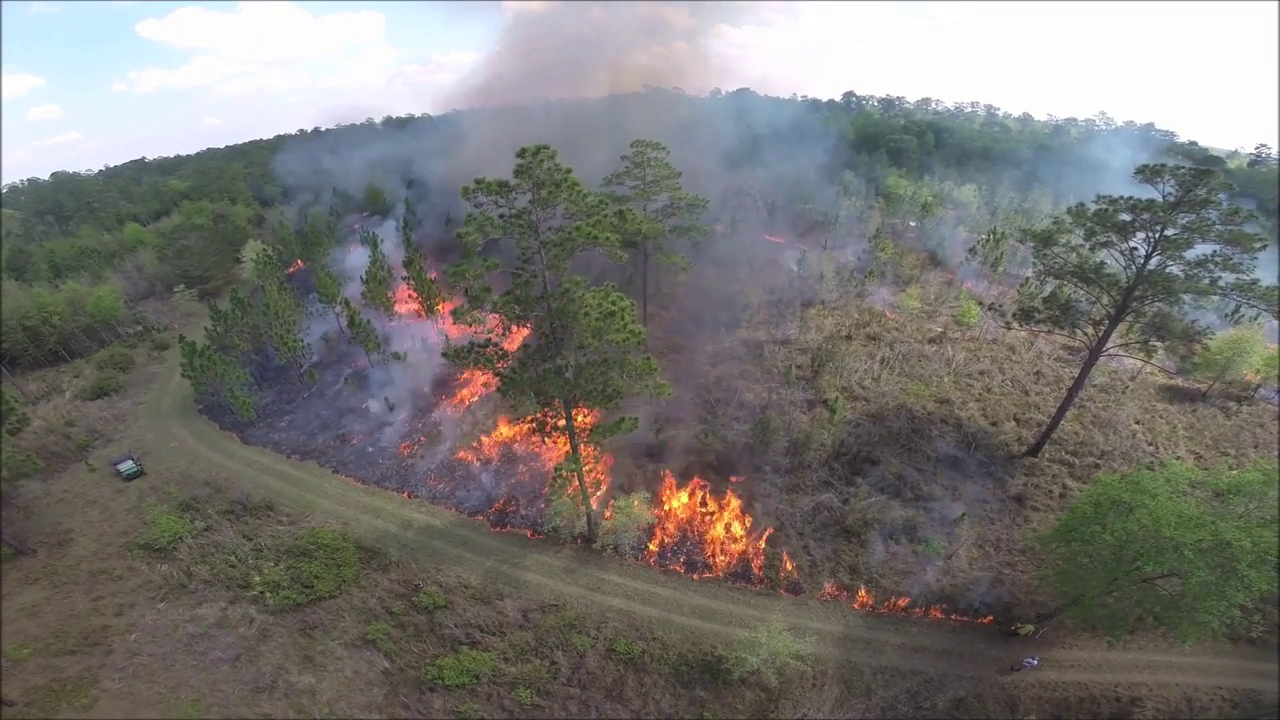forest_fire: (640, 471, 772, 586), (454, 416, 568, 499), (393, 283, 527, 351), (818, 581, 991, 623), (477, 495, 541, 536), (579, 444, 612, 517), (441, 370, 496, 411), (775, 551, 804, 595), (574, 409, 600, 434), (400, 437, 424, 454), (566, 481, 577, 496), (401, 491, 415, 498)
